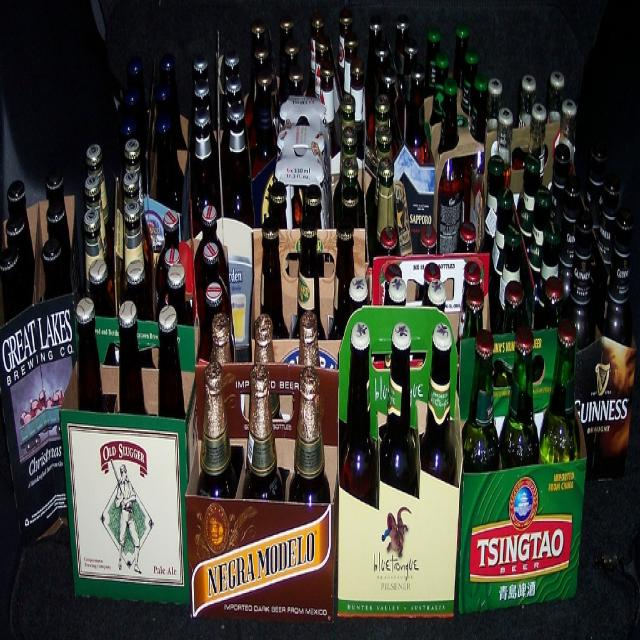tsingtao: (468, 474, 576, 593)
